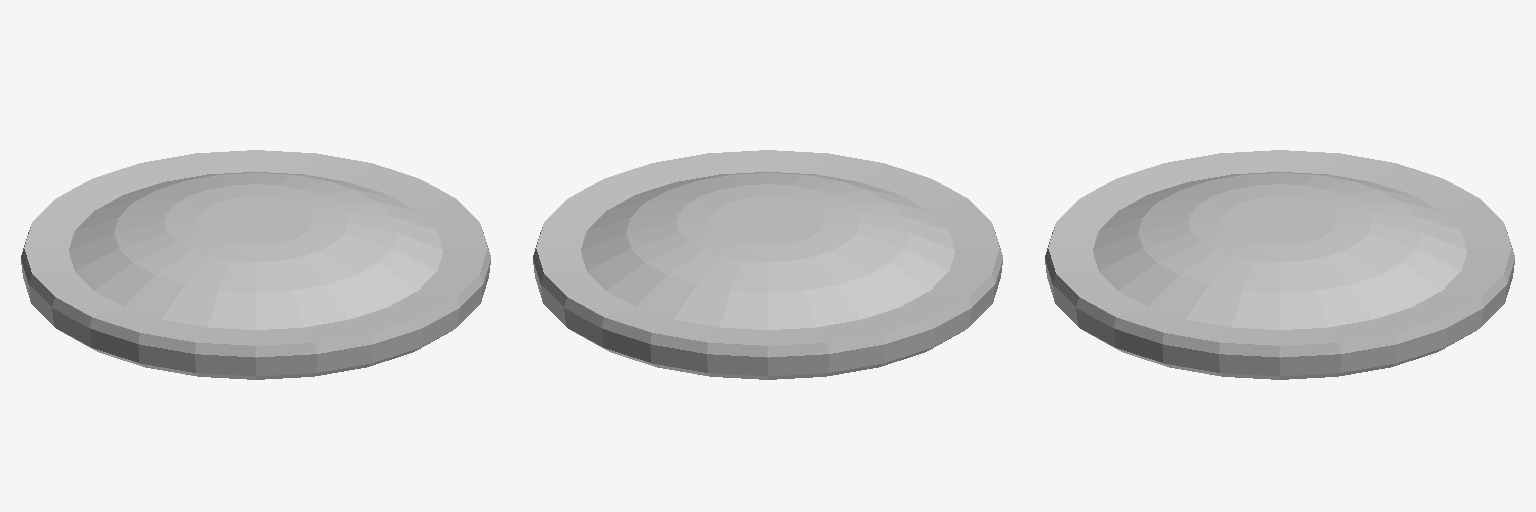
Rendered from caffa jake.obj.
The picture shows the model from 3 angles: view 1: azimuth 30°, elevation 25°; view 2: azimuth 150°, elevation 25°; view 3: azimuth 270°, elevation 25°; orthographic projection.
Visible parts, largest first — view 1: Circle; view 2: Circle; view 3: Circle.
Part boxes in pixels (left/top/right/bottom): Circle: left=21, top=150, right=490, bottom=379; Circle: left=533, top=150, right=1002, bottom=379; Circle: left=1045, top=150, right=1514, bottom=379.
Bounding box in the file's own units: 2.12 × 0.3508 × 2.12.